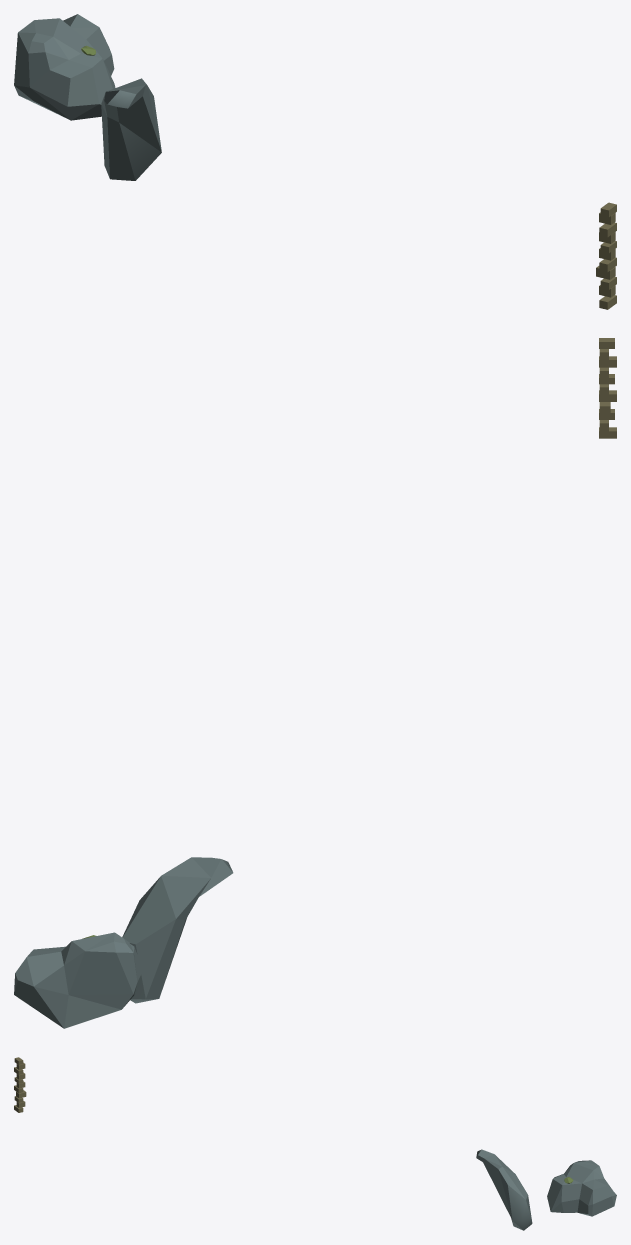
3 renders of one model, top to bottom at view 1: azimuth 30°, elevation 25°; view 2: azimuth 150°, elevation 25°; view 3: azimuth 270°, elevation 25°, orthographic. The views are drawn at different scales.
Parts seen in each view (by area): view 1: Box284_rock_0, Box067_rock_0, Box15616_rock2_0; view 2: Box284_rock_0, Box067_rock_0, Box15616_rock2_0; view 3: Box284_rock_0, Box067_rock_0, Box15616_rock2_0.
Part boxes in pixels (bbox=[...]): Box284_rock_0: bbox=[14, 14, 115, 120]; Box067_rock_0: bbox=[101, 78, 161, 180]; Box15616_rock2_0: bbox=[596, 202, 616, 309]; Box284_rock_0: bbox=[14, 932, 143, 1028]; Box067_rock_0: bbox=[122, 857, 233, 1003]; Box15616_rock2_0: bbox=[599, 338, 616, 438]; Box284_rock_0: bbox=[547, 1160, 616, 1216]; Box067_rock_0: bbox=[476, 1149, 532, 1230]; Box15616_rock2_0: bbox=[14, 1057, 26, 1112].
Bounding box in the file's own units: 521 × 1468 × 4710.
